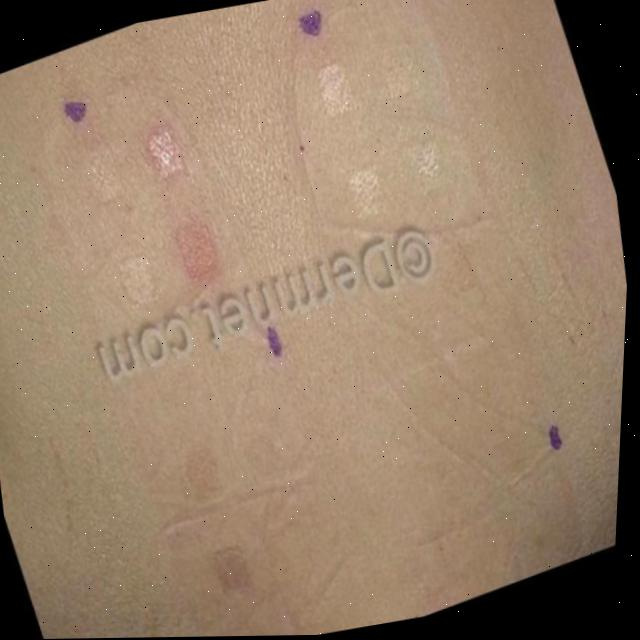Eczema: (166, 218, 222, 298), (203, 531, 259, 604), (183, 445, 229, 513), (158, 133, 190, 196)
